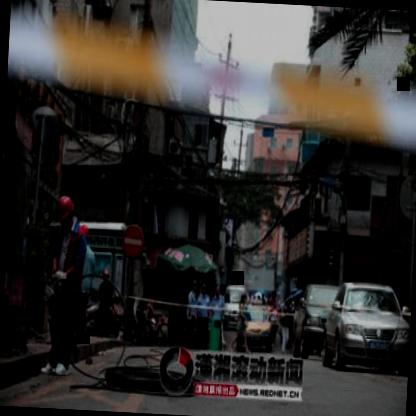helmet: (52, 193, 79, 237)
